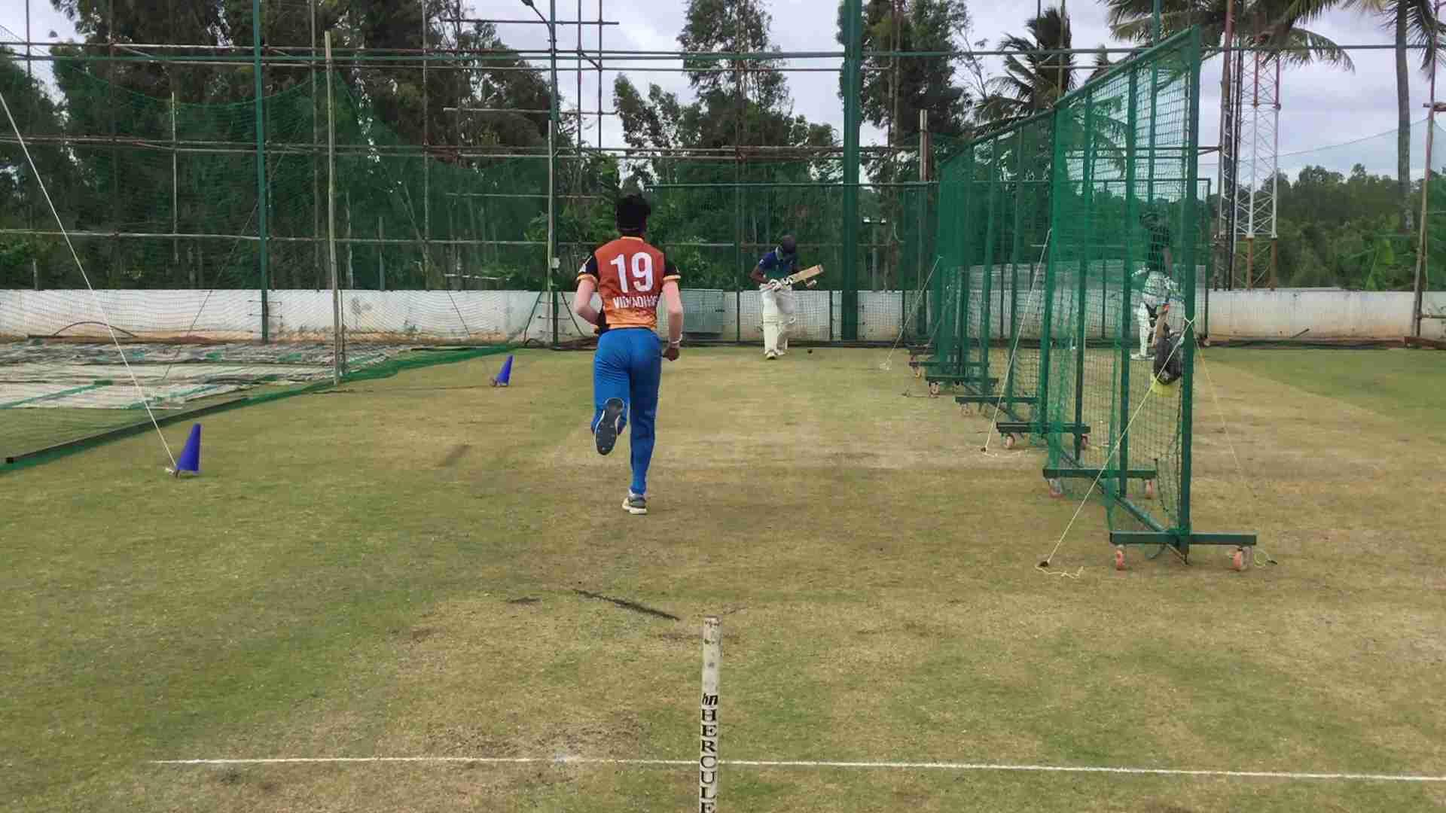batsman: (744, 228, 810, 366)
